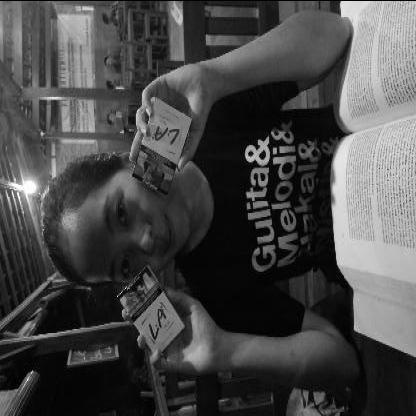objects: (132, 96, 192, 194), (117, 266, 185, 352)
